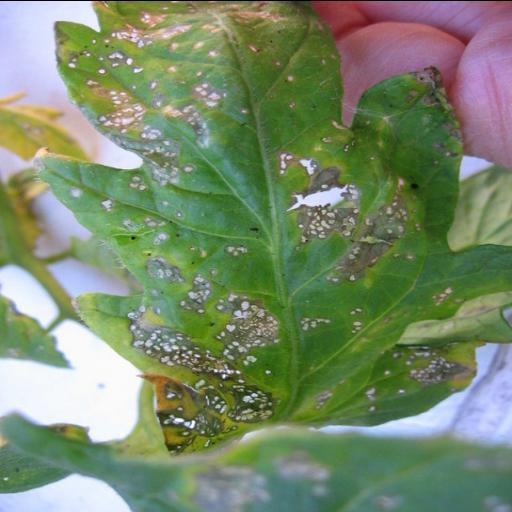disease_tomato: (24, 0, 512, 465)
